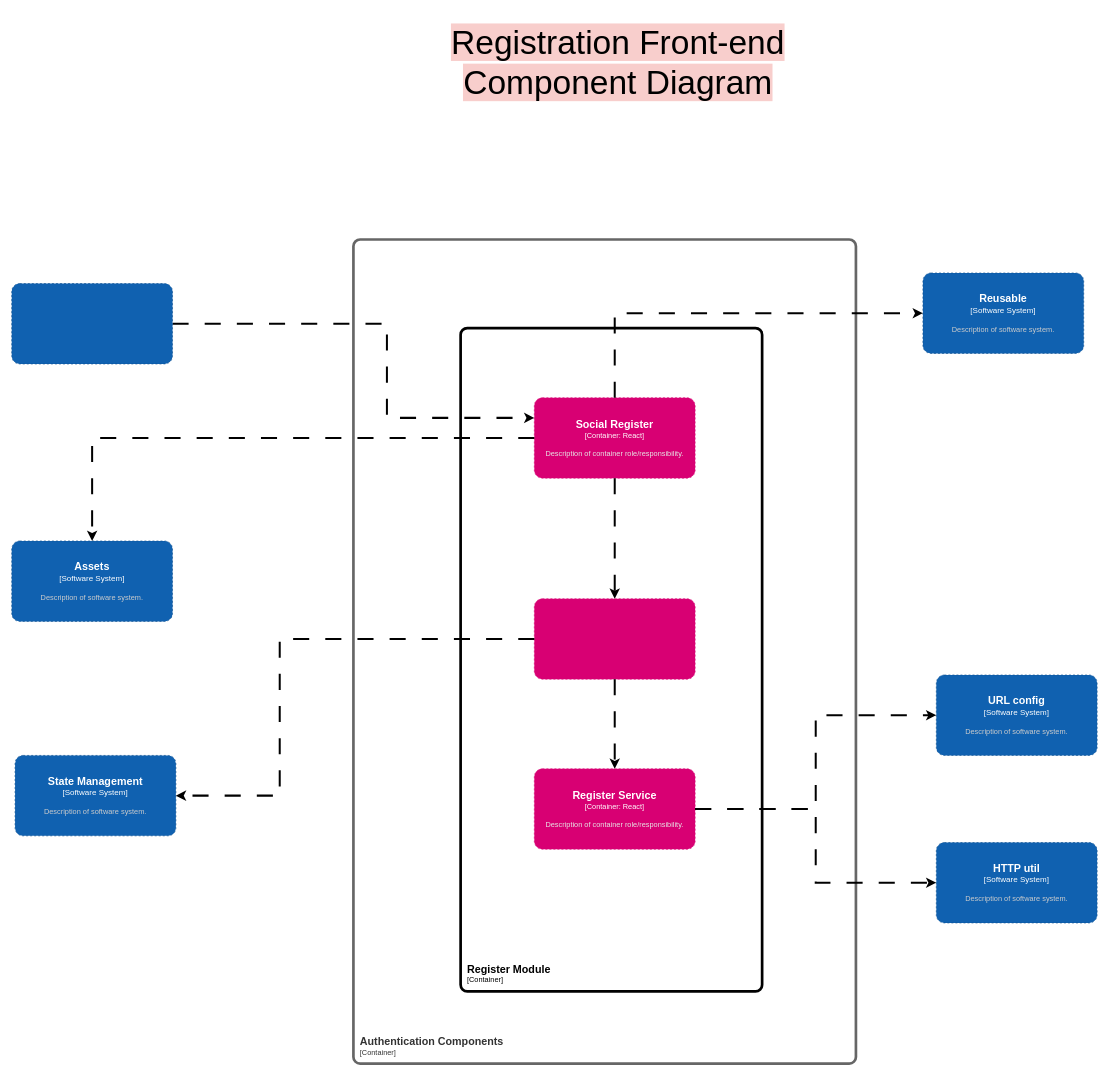
The diagram is 1109 pixels wide and 1076 high, and some of its shapes have lost their labels. The centre of each missing label's shape, as x and y in pixels:
"Page [Software System] Description of software system." belongs at point 92,323.
"Register Hook [Container: React] Description of container role/responsibility." belongs at point 614,638.
